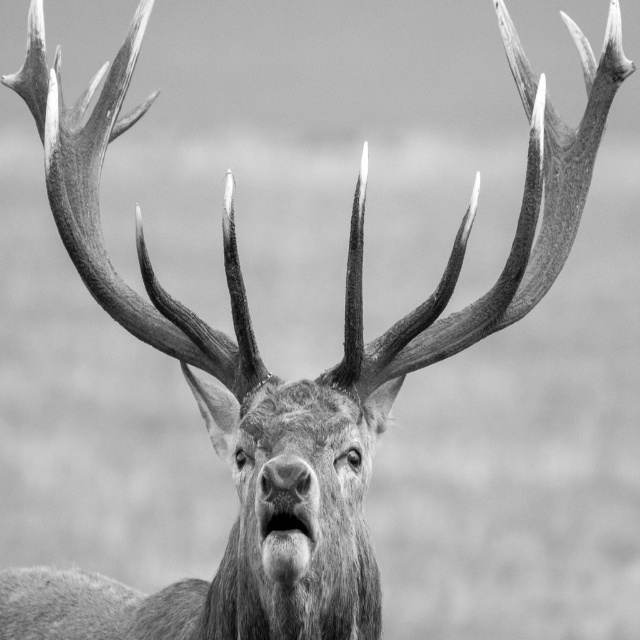Deer: (0, 0, 637, 640)
